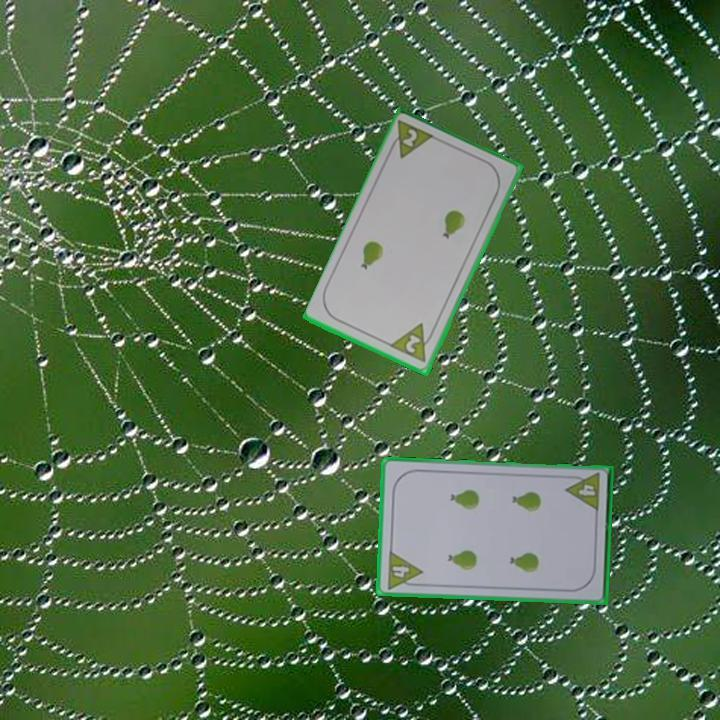2p: (384, 117, 438, 162), (388, 320, 438, 366)
4p: (384, 547, 425, 592), (563, 470, 603, 514)
